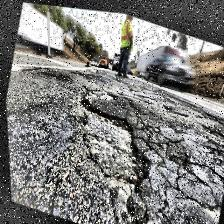pothole: (58, 94, 164, 224)
